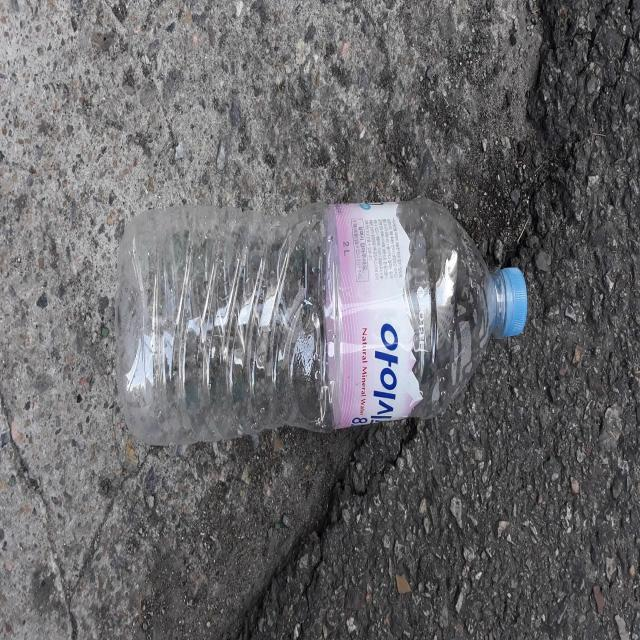plastic: (114, 198, 528, 445)
